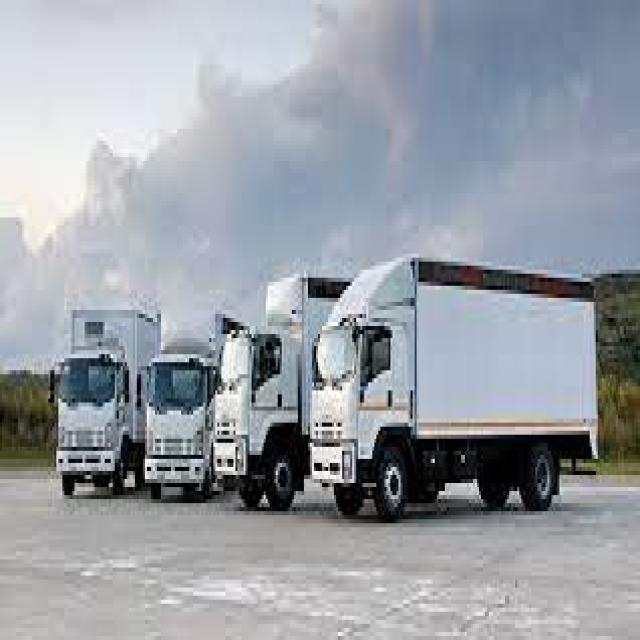Heavy Duty Truck: (310, 270, 598, 519), (211, 274, 312, 511), (48, 302, 135, 499), (137, 350, 213, 499)
